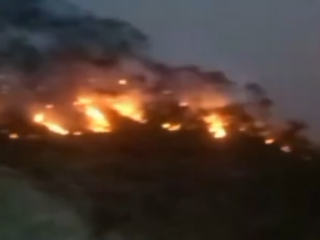fire: (78, 94, 150, 132), (31, 107, 71, 142), (200, 113, 228, 140)
